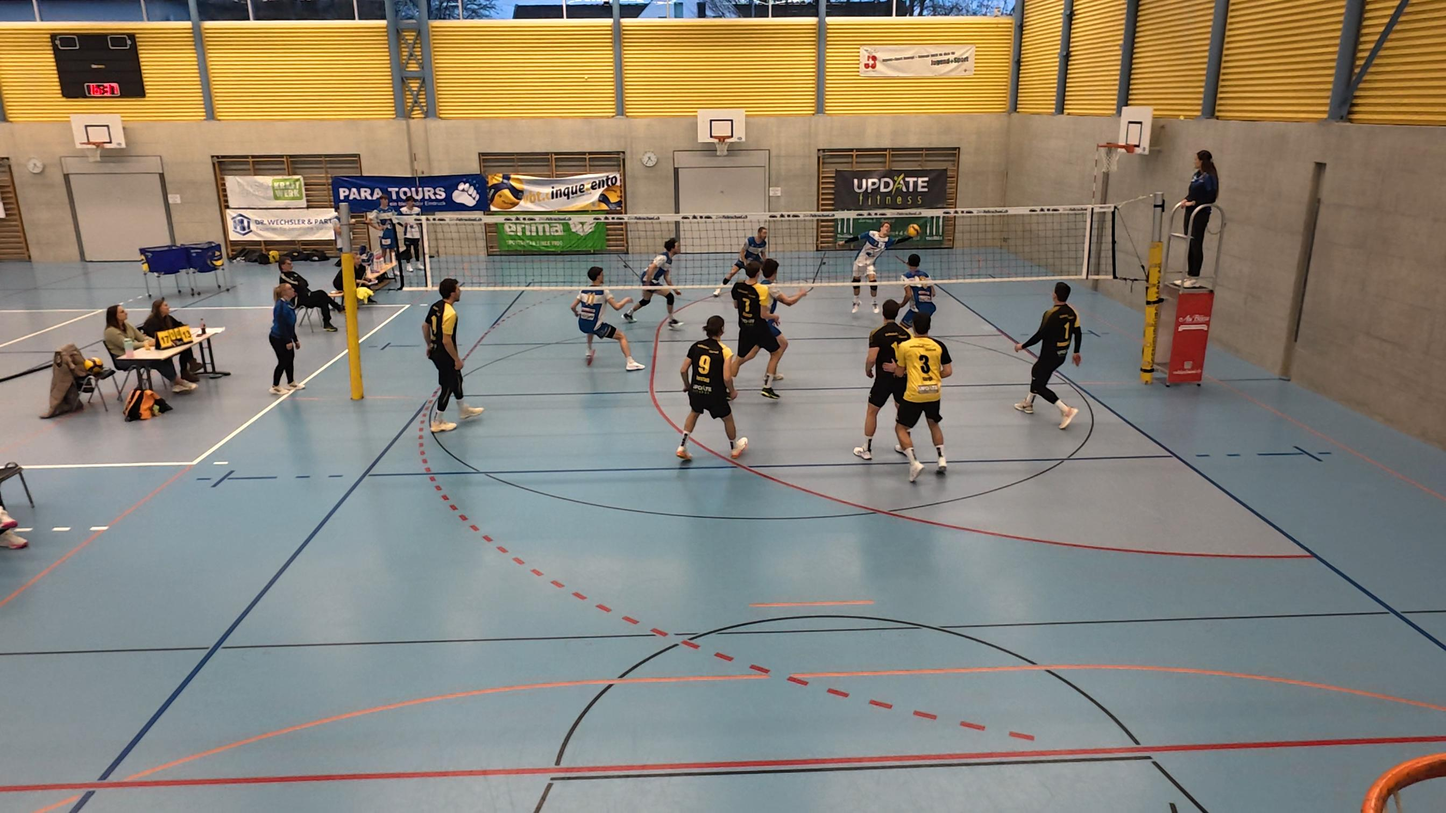Dig: (846, 220, 921, 310)
Player: (721, 259, 809, 399), (1012, 283, 1086, 429), (675, 315, 747, 463), (892, 313, 950, 477), (855, 302, 913, 461), (423, 278, 476, 432), (759, 255, 812, 382), (576, 269, 640, 369), (623, 244, 682, 330), (712, 213, 771, 294), (899, 254, 941, 338)
ball: (906, 219, 920, 240)
